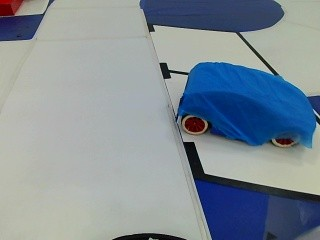car: (167, 56, 318, 152)
